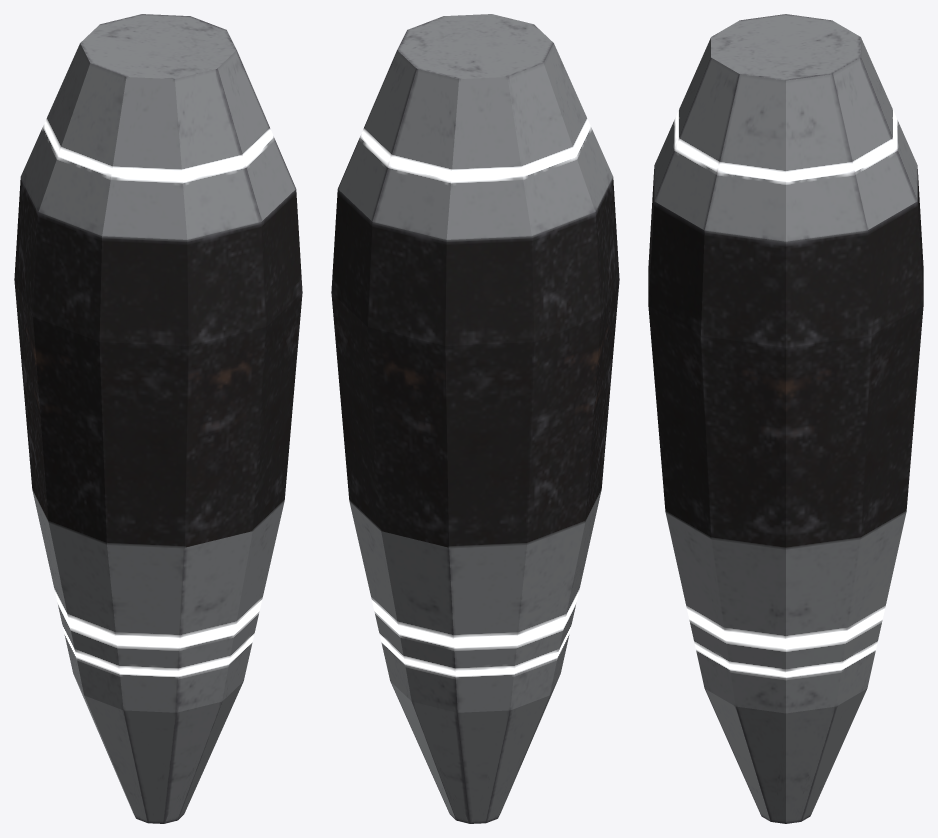
Rendered from engine_s_1.fbx.
The picture shows the model from 3 angles, left to right: view 1: azimuth 30°, elevation 25°; view 2: azimuth 150°, elevation 25°; view 3: azimuth 270°, elevation 25°; orthographic projection.
Parts seen in each view (by area): view 1: engine_s_1; view 2: engine_s_1; view 3: engine_s_1.
Boxes of the visible parts, x1,y1,x2,y2 form: engine_s_1: (14,14,302,823); engine_s_1: (331,14,619,823); engine_s_1: (648,14,923,823).
Bounding box in the file's own units: 2.48 × 7.24 × 2.36.
